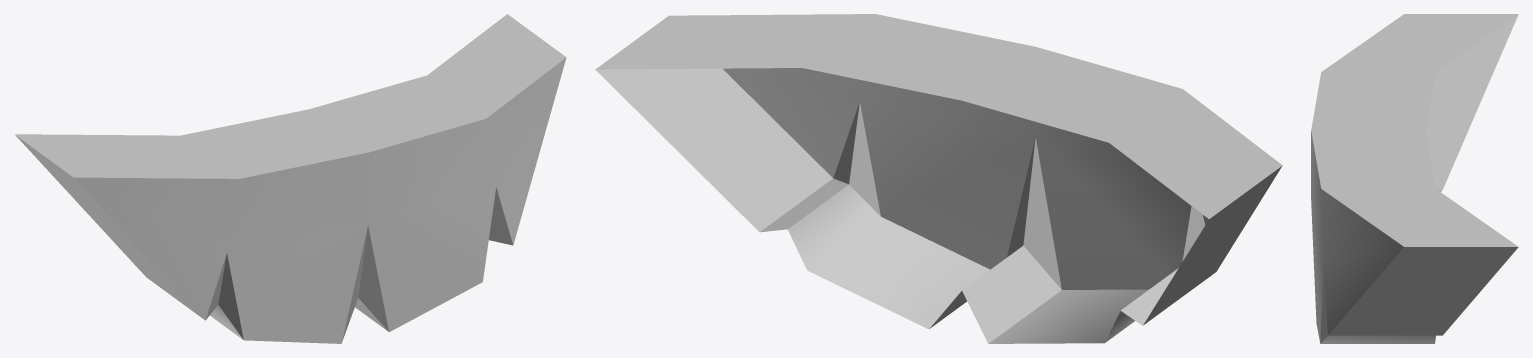
The model's file is Mouth_D_Moustache_02.fbx.
3 renders of one model, left to right at view 1: azimuth 30°, elevation 25°; view 2: azimuth 150°, elevation 25°; view 3: azimuth 270°, elevation 25°, orthographic. The views are drawn at different scales.
Visible parts, largest first — view 1: Mouth_D_Moustache_02; view 2: Mouth_D_Moustache_02; view 3: Mouth_D_Moustache_02.
Part boxes in pixels (x1,y1,x2,y2): Mouth_D_Moustache_02: (15,14,566,343); Mouth_D_Moustache_02: (595,14,1282,343); Mouth_D_Moustache_02: (1311,14,1518,343).
Size of the model in its own units: 45.35 by 16.49 by 17.08.
